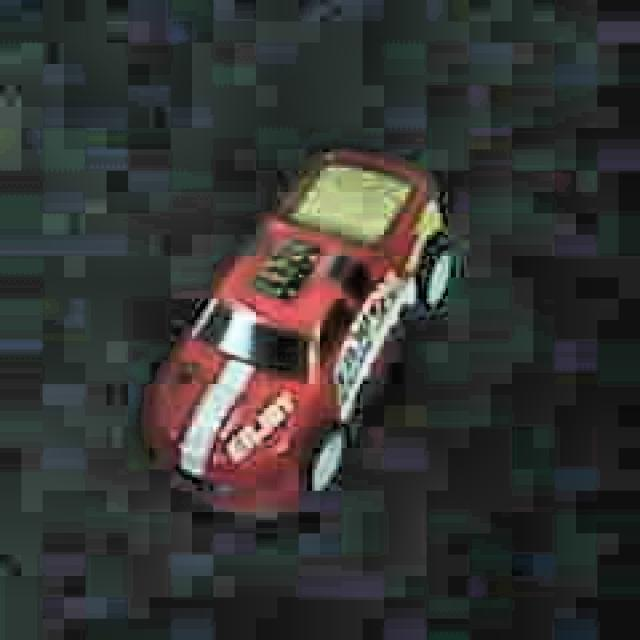car: (143, 143, 458, 524)
